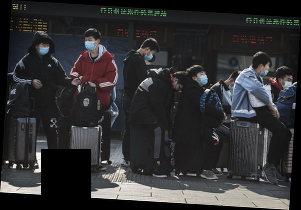mask_weared_incorrect: (260, 66, 271, 78)
with_mask: (84, 37, 96, 51), (197, 72, 209, 86), (282, 76, 294, 90), (38, 43, 50, 56), (144, 51, 155, 62)
